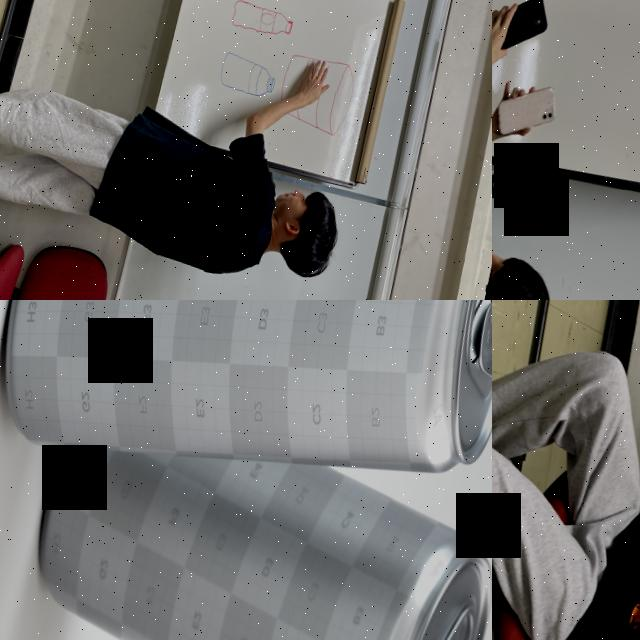can: (0, 300, 492, 549), (0, 399, 492, 640)
